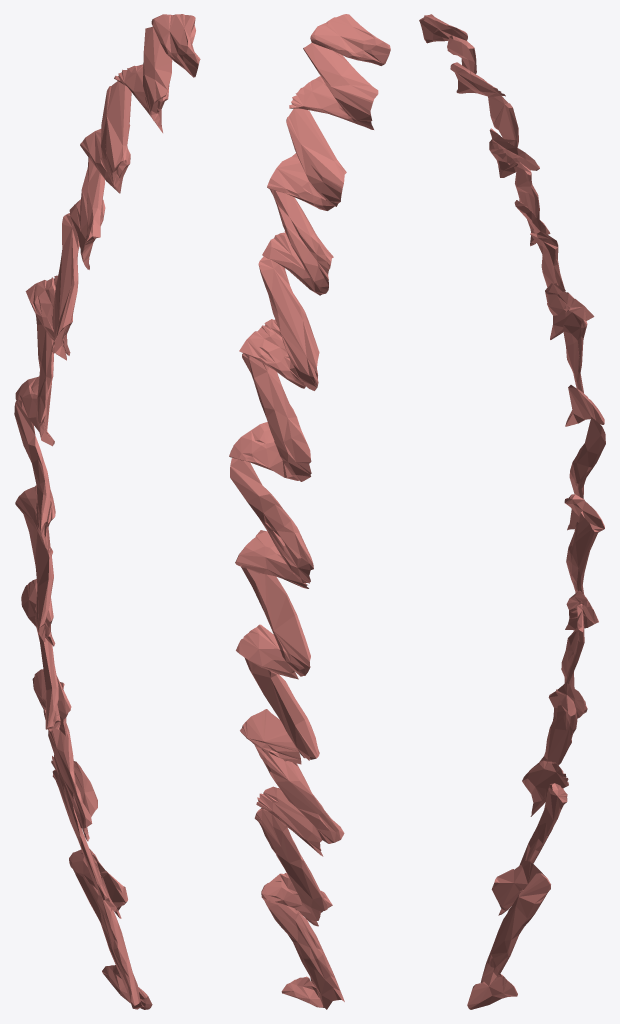
The picture shows the model from 3 angles, left to right: view 1: azimuth 90°, elevation 25°; view 2: azimuth 150°, elevation 25°; view 3: azimuth 270°, elevation 25°; orthographic projection. The views are drawn at different scales.
Visible parts, largest first — view 1: ZA_e388be4301039128; view 2: ZA_e388be4301039128; view 3: ZA_e388be4301039128.
Part boxes in pixels (x1,y1,x2,y2): ZA_e388be4301039128: (14, 14, 200, 1009); ZA_e388be4301039128: (229, 14, 390, 1009); ZA_e388be4301039128: (419, 14, 605, 1009).
Size of the model in its own units: 0.0262 by 0.3079 by 0.0524.
